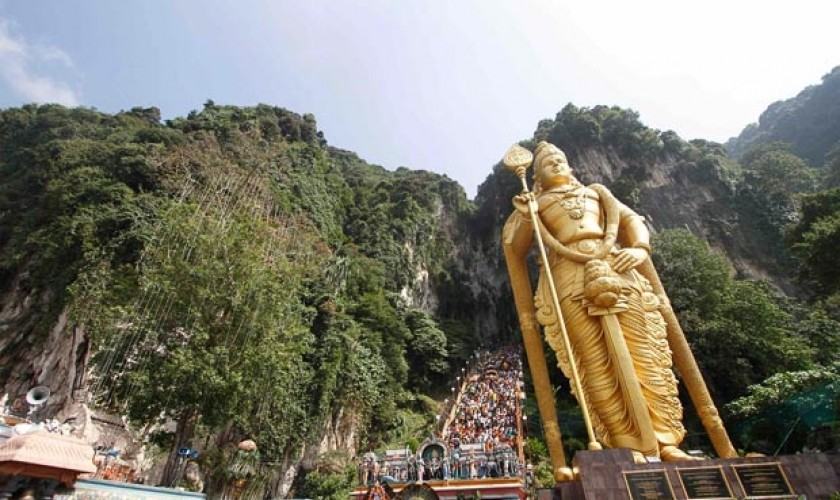Hindu Temple: (502, 127, 726, 460)
